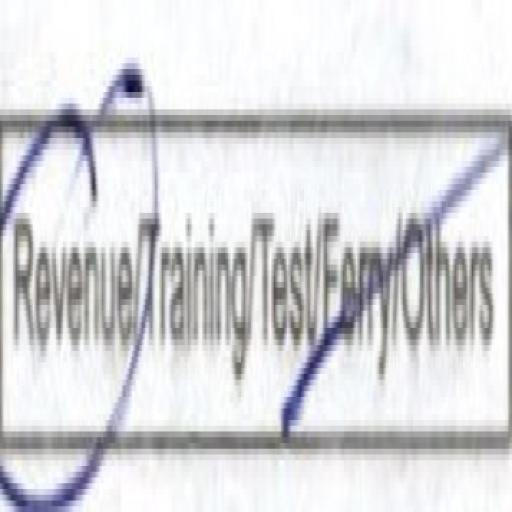check: (0, 35, 140, 512)
